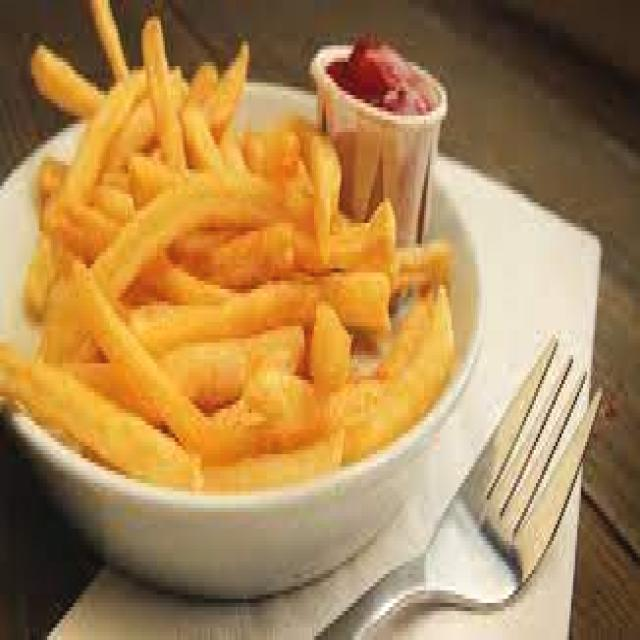kentang goreng: (6, 17, 455, 495)
